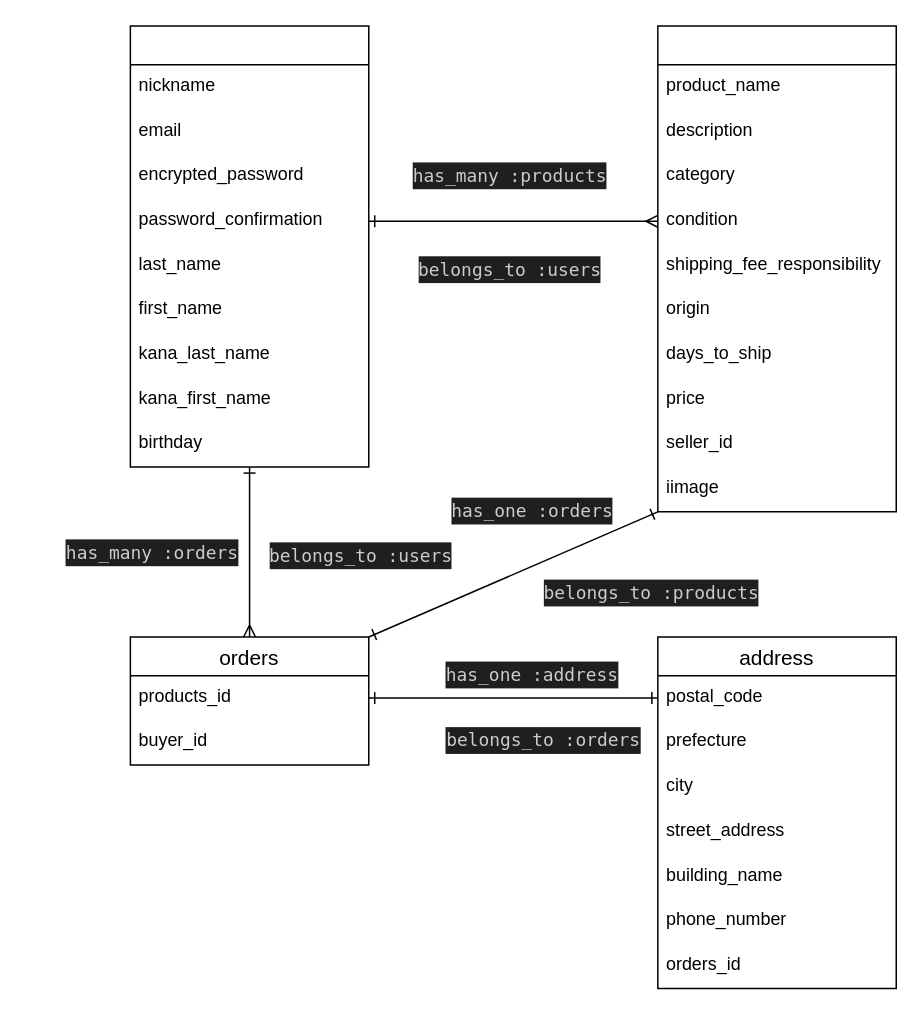
Image size: 922x1019. Some labels were removed from this diagram. The box of each missing label's shape, as (x1, y1, x2, y2) in pixels:
products: (656, 25, 896, 512)
users: (129, 25, 369, 467)
